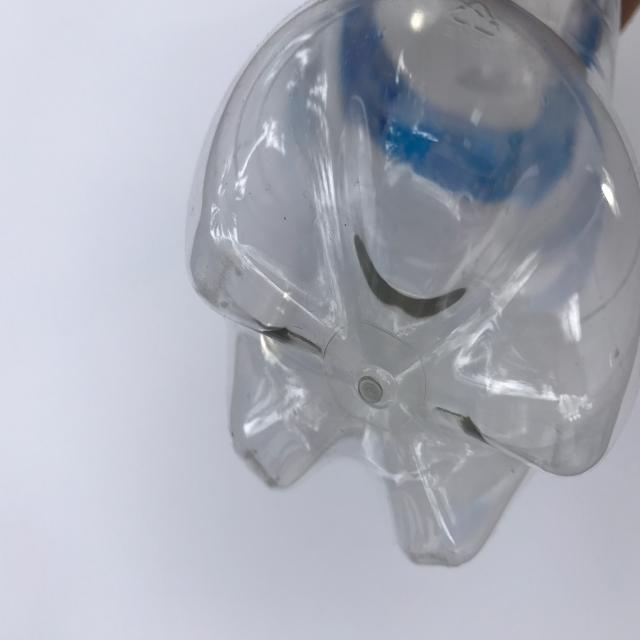plastic: (185, 0, 640, 567)
